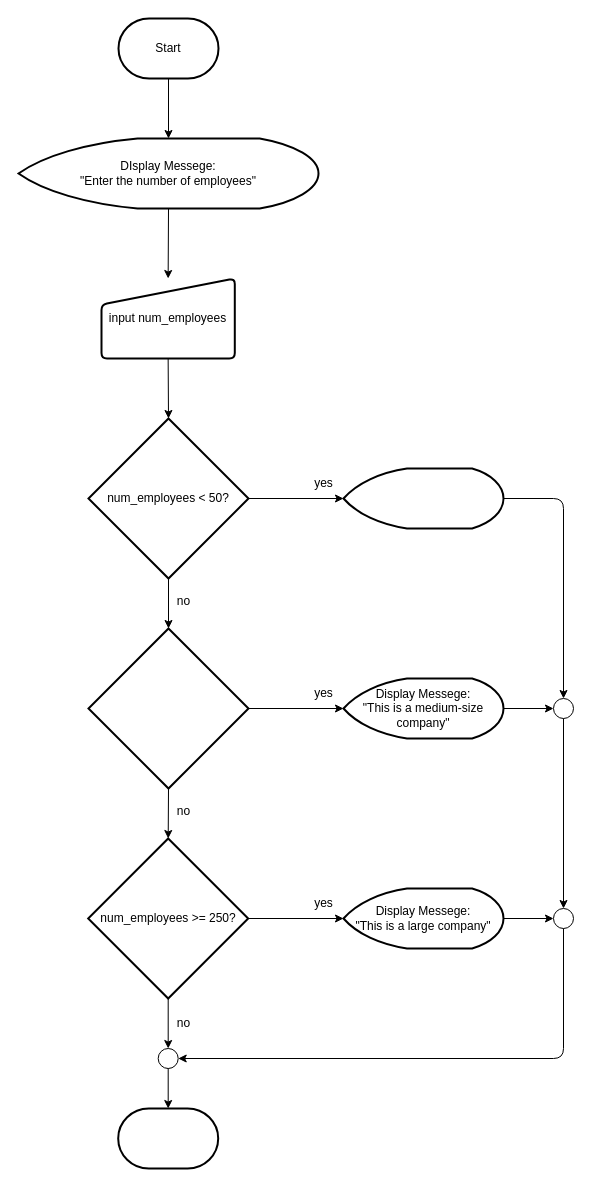
This 591x1186 diagram has some shape labels left out. Here are the shapes that lost their labels. From the top down, the box of each, then its label:
(342, 467, 504, 529): Display Messege: "This is a small company"
(87, 627, 249, 789): num_employees < 250?
(117, 1107, 219, 1169): Stop
